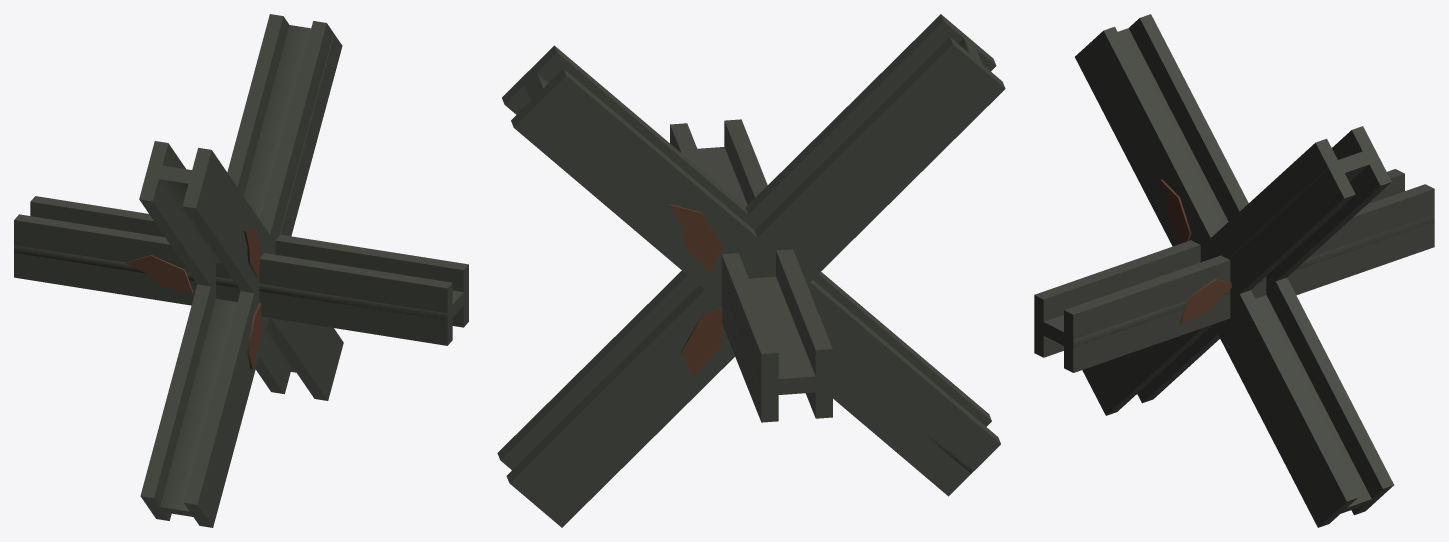
File: tank_trap_b.obj
The picture shows the model from 3 angles, left to right: view 1: azimuth 30°, elevation 25°; view 2: azimuth 150°, elevation 25°; view 3: azimuth 270°, elevation 25°; orthographic projection. The views are drawn at different scales.
Parts seen in each view (by area): view 1: retained_164, retained_0, retained_88, rounded_inner_web_1, retained_12, retained_152, retained_76, rounded_inner_web_3, rounded_inner_web_2, retained_208, retained_36, retained_132; view 2: retained_76, retained_12, retained_88, retained_0, retained_152, retained_164, rounded_inner_web_3, retained_56, retained_112, rounded_inner_web_1; view 3: retained_88, retained_152, retained_0, retained_76, rounded_inner_web_2, retained_164, retained_12, rounded_inner_web_3, rounded_inner_web_1, retained_188, retained_132.
Boxes of the visible parts, x1,y1,x2,y2 form: retained_164: [14, 214, 452, 345]; retained_0: [184, 21, 342, 527]; retained_88: [182, 147, 343, 400]; rounded_inner_web_1: [148, 25, 334, 518]; retained_12: [140, 14, 289, 520]; retained_152: [30, 196, 468, 327]; retained_76: [139, 141, 290, 394]; rounded_inner_web_3: [14, 245, 463, 322]; rounded_inner_web_2: [148, 164, 296, 372]; retained_208: [126, 255, 193, 293]; retained_36: [247, 303, 261, 369]; retained_132: [243, 229, 261, 277]; retained_76: [506, 37, 1005, 527]; retained_12: [511, 68, 1000, 496]; retained_88: [497, 14, 996, 469]; retained_0: [502, 45, 991, 426]; retained_152: [670, 123, 778, 422]; retained_164: [724, 119, 832, 418]; rounded_inner_web_3: [697, 147, 832, 395]; retained_56: [669, 204, 722, 272]; retained_112: [680, 307, 722, 376]; rounded_inner_web_1: [525, 67, 976, 473]; retained_88: [1075, 26, 1357, 527]; retained_152: [1064, 184, 1434, 372]; retained_0: [1082, 138, 1355, 415]; retained_76: [1128, 14, 1393, 515]; rounded_inner_web_2: [1090, 28, 1381, 516]; retained_164: [1034, 169, 1404, 357]; retained_12: [1137, 126, 1391, 403]; rounded_inner_web_3: [1034, 215, 1434, 347]; rounded_inner_web_1: [1227, 151, 1369, 263]; retained_188: [1180, 279, 1231, 323]; retained_132: [1161, 179, 1191, 243].
Size of the model in its own units: 1.38 by 1.6 by 1.5.
